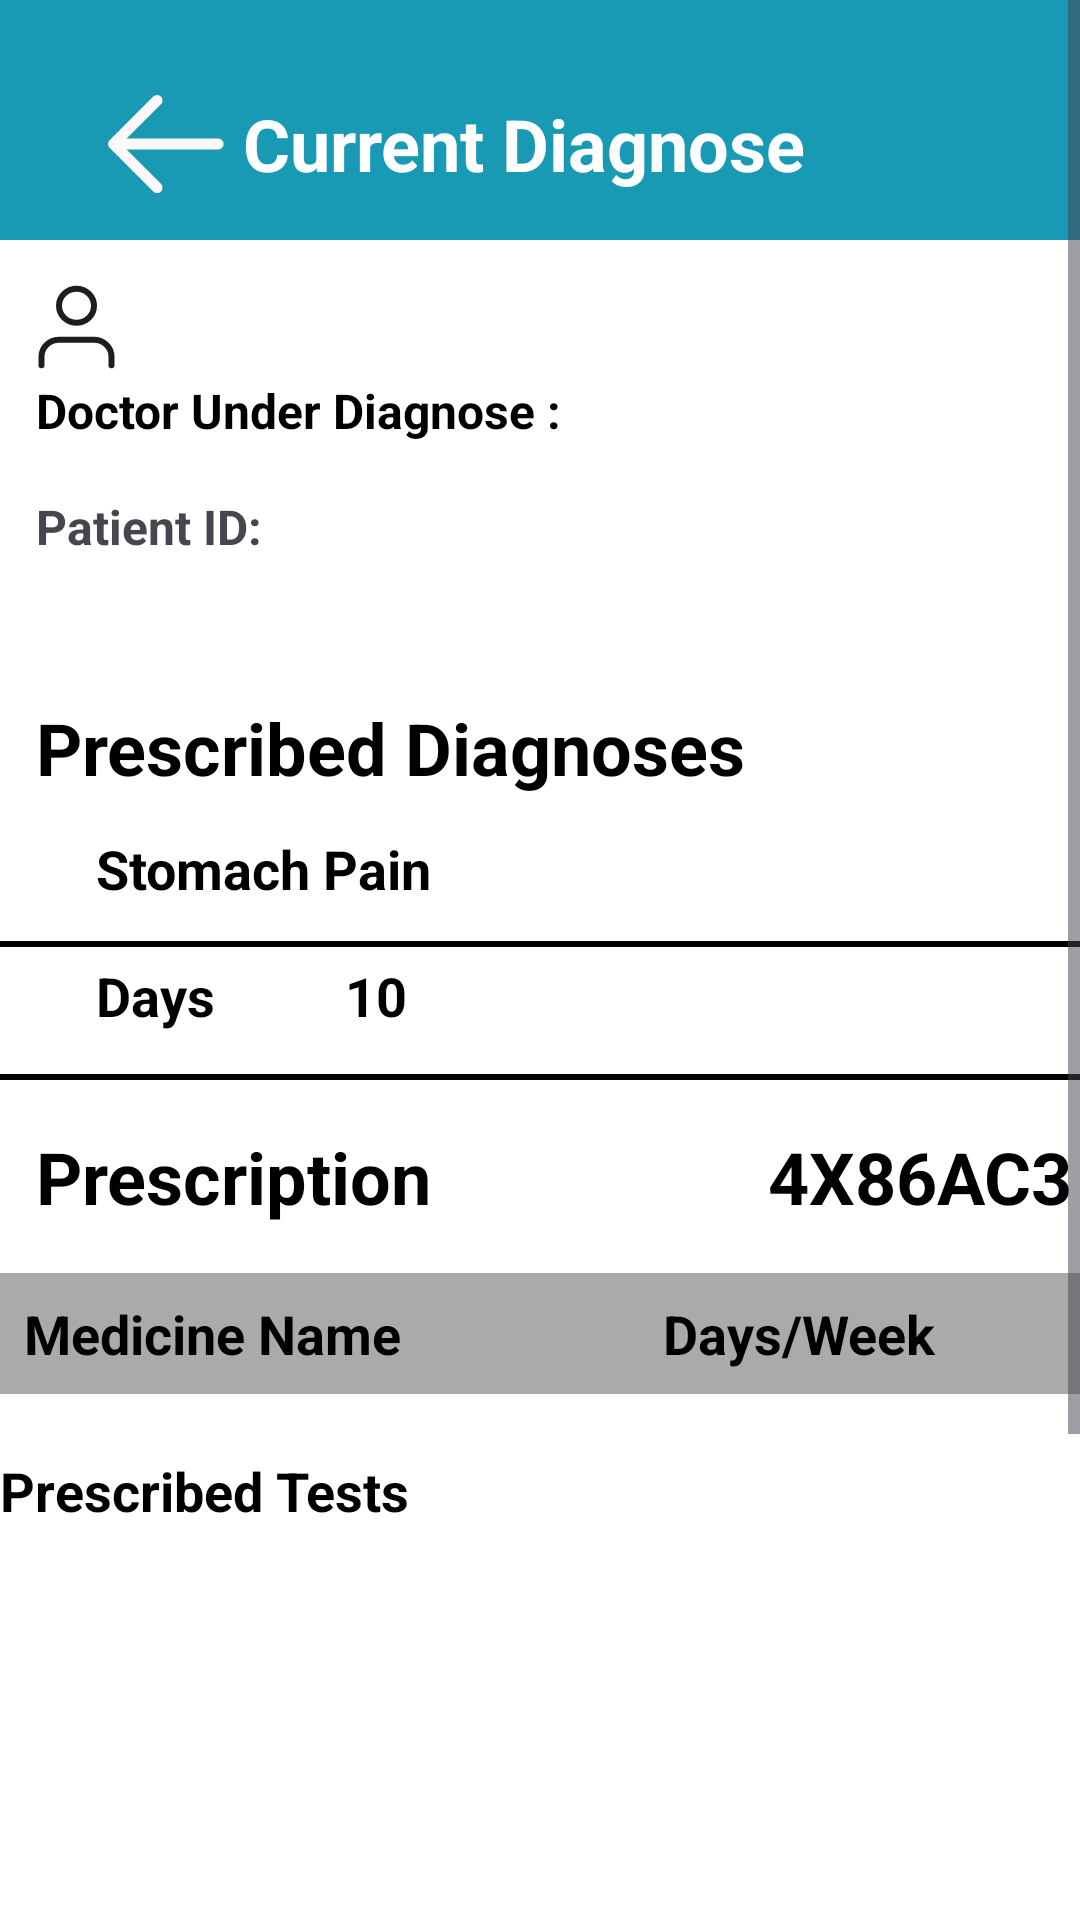

Screen size 1080 x 1920. Icon name, then its center in pixels as [x,y]:
arrow: [166,144]
